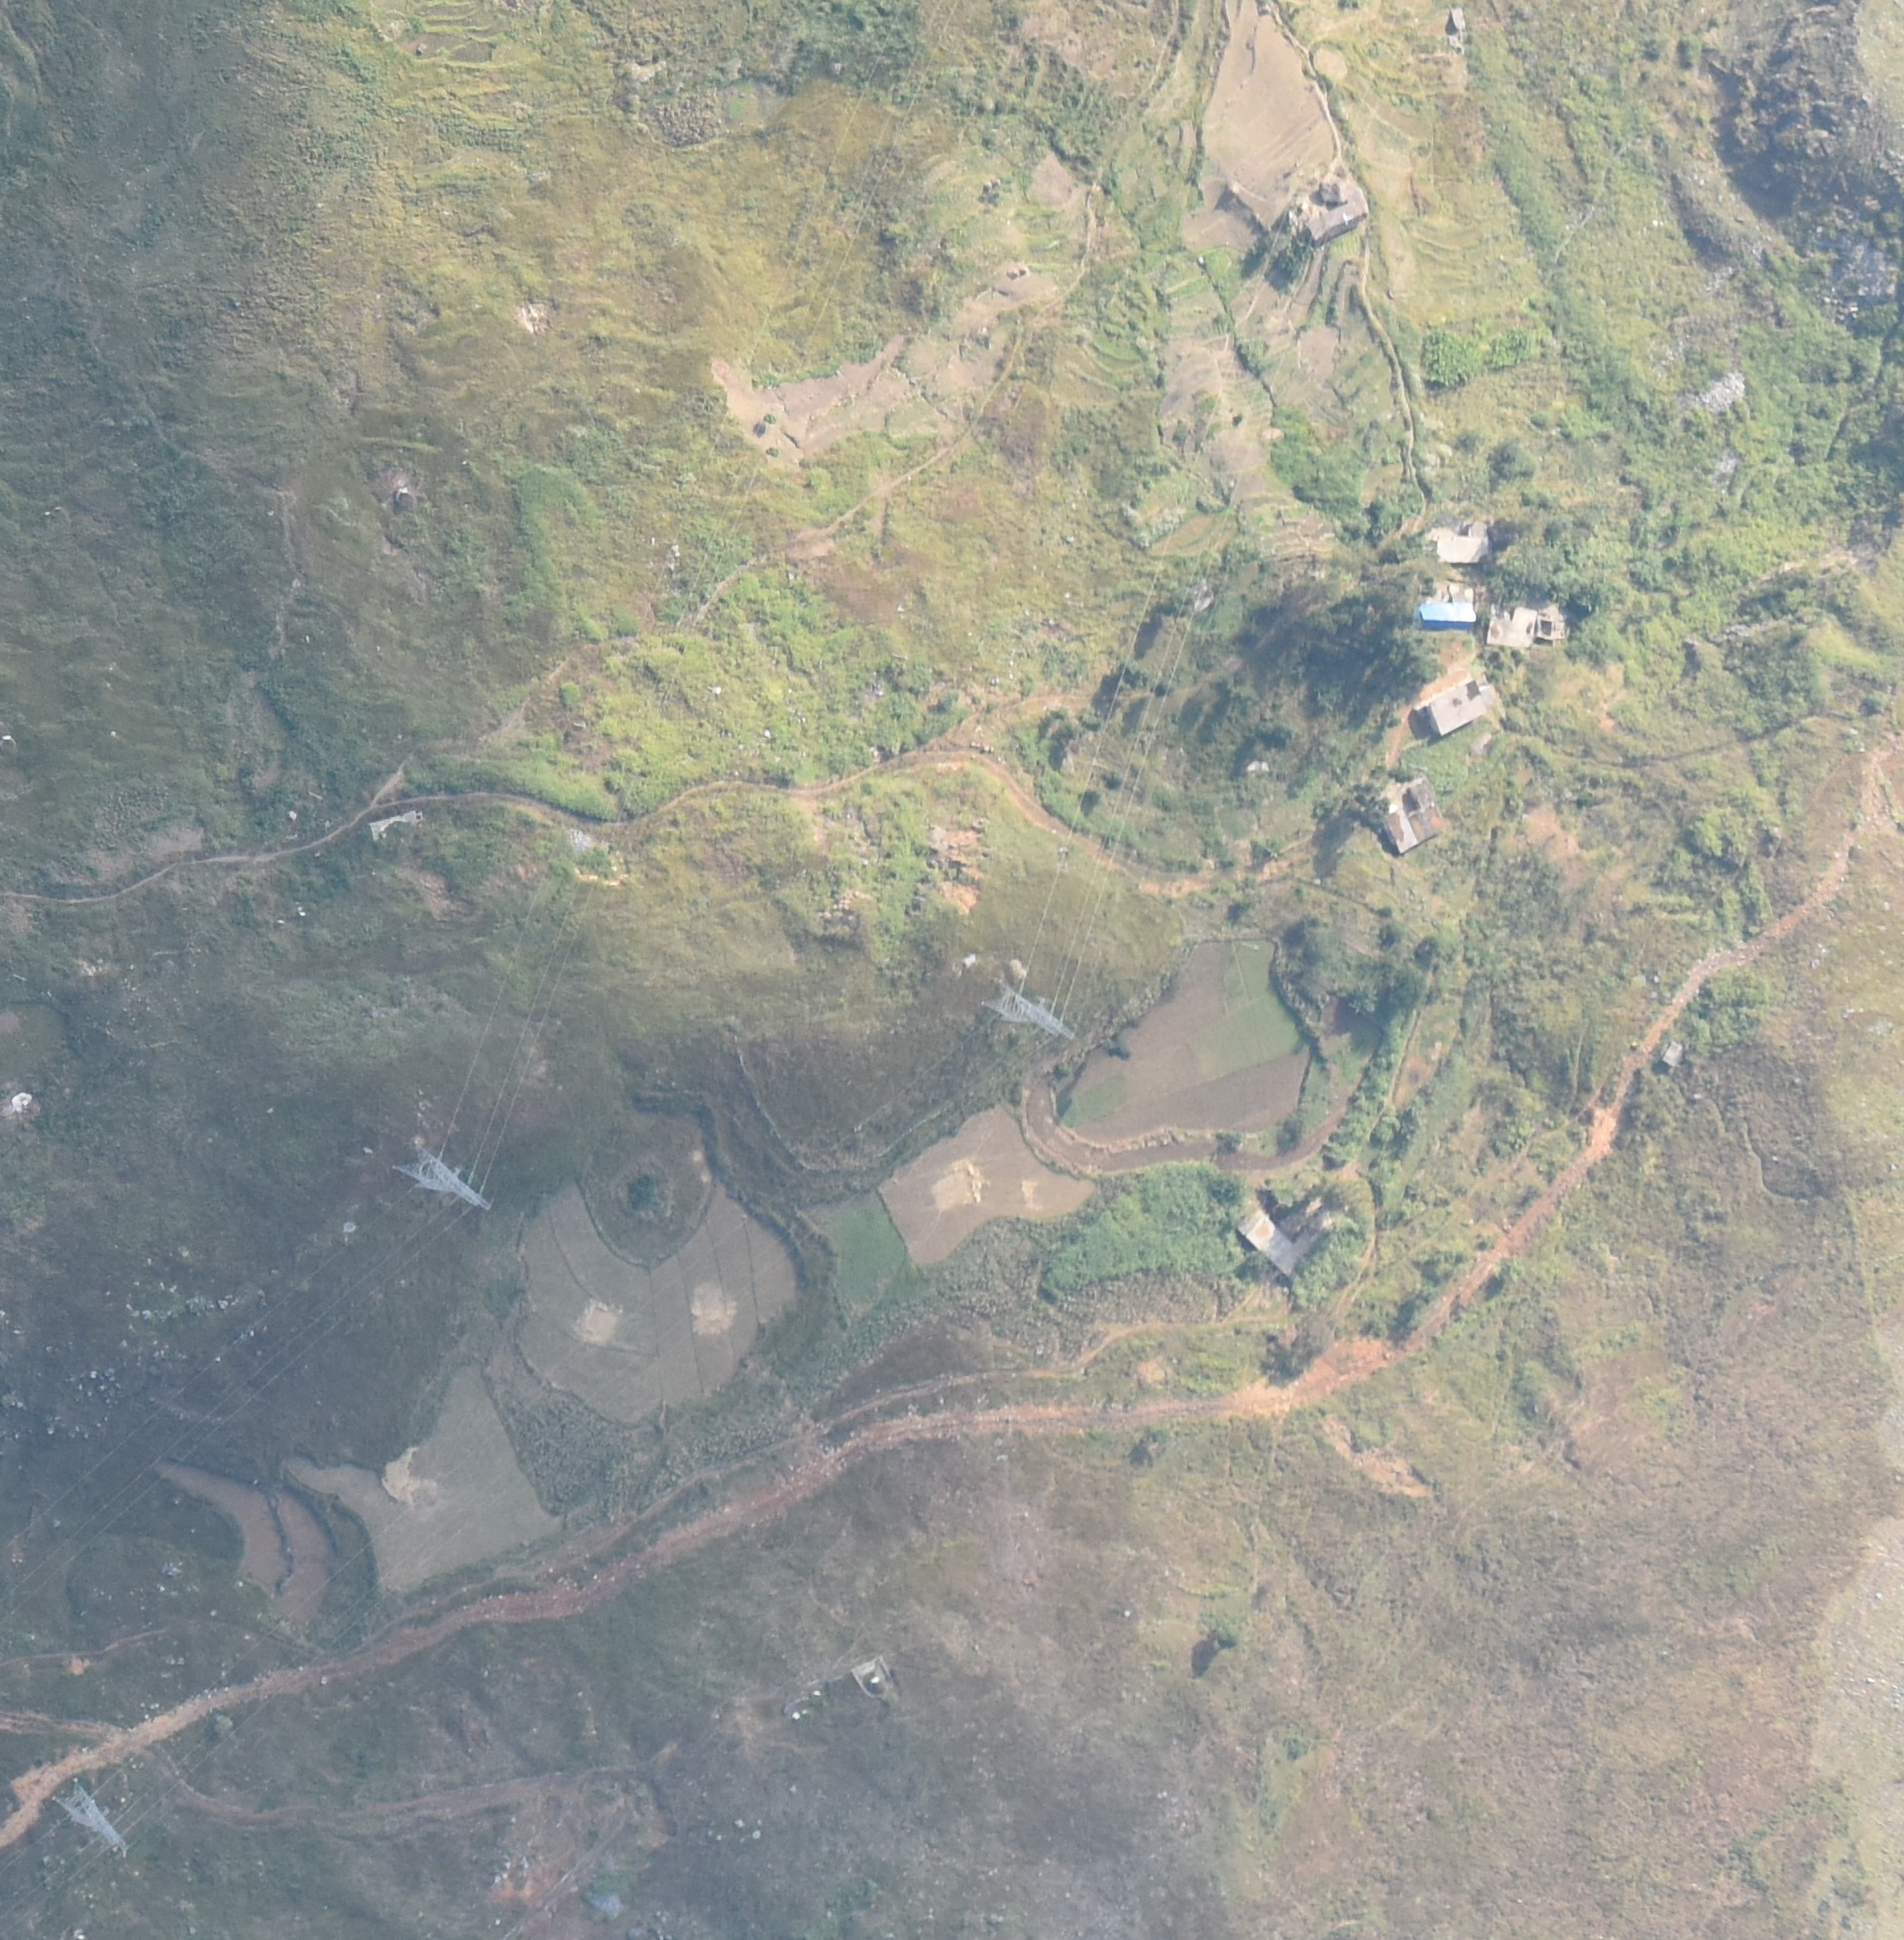building: (1372, 778, 1442, 852), (1235, 1211, 1309, 1276), (1418, 683, 1485, 732), (1489, 601, 1549, 652), (1306, 200, 1374, 243), (1435, 534, 1493, 563)
cable-tower: (973, 975, 1084, 1053), (391, 1146, 495, 1215), (51, 1774, 135, 1858)
prefabricated-house: (1415, 600, 1477, 632)
